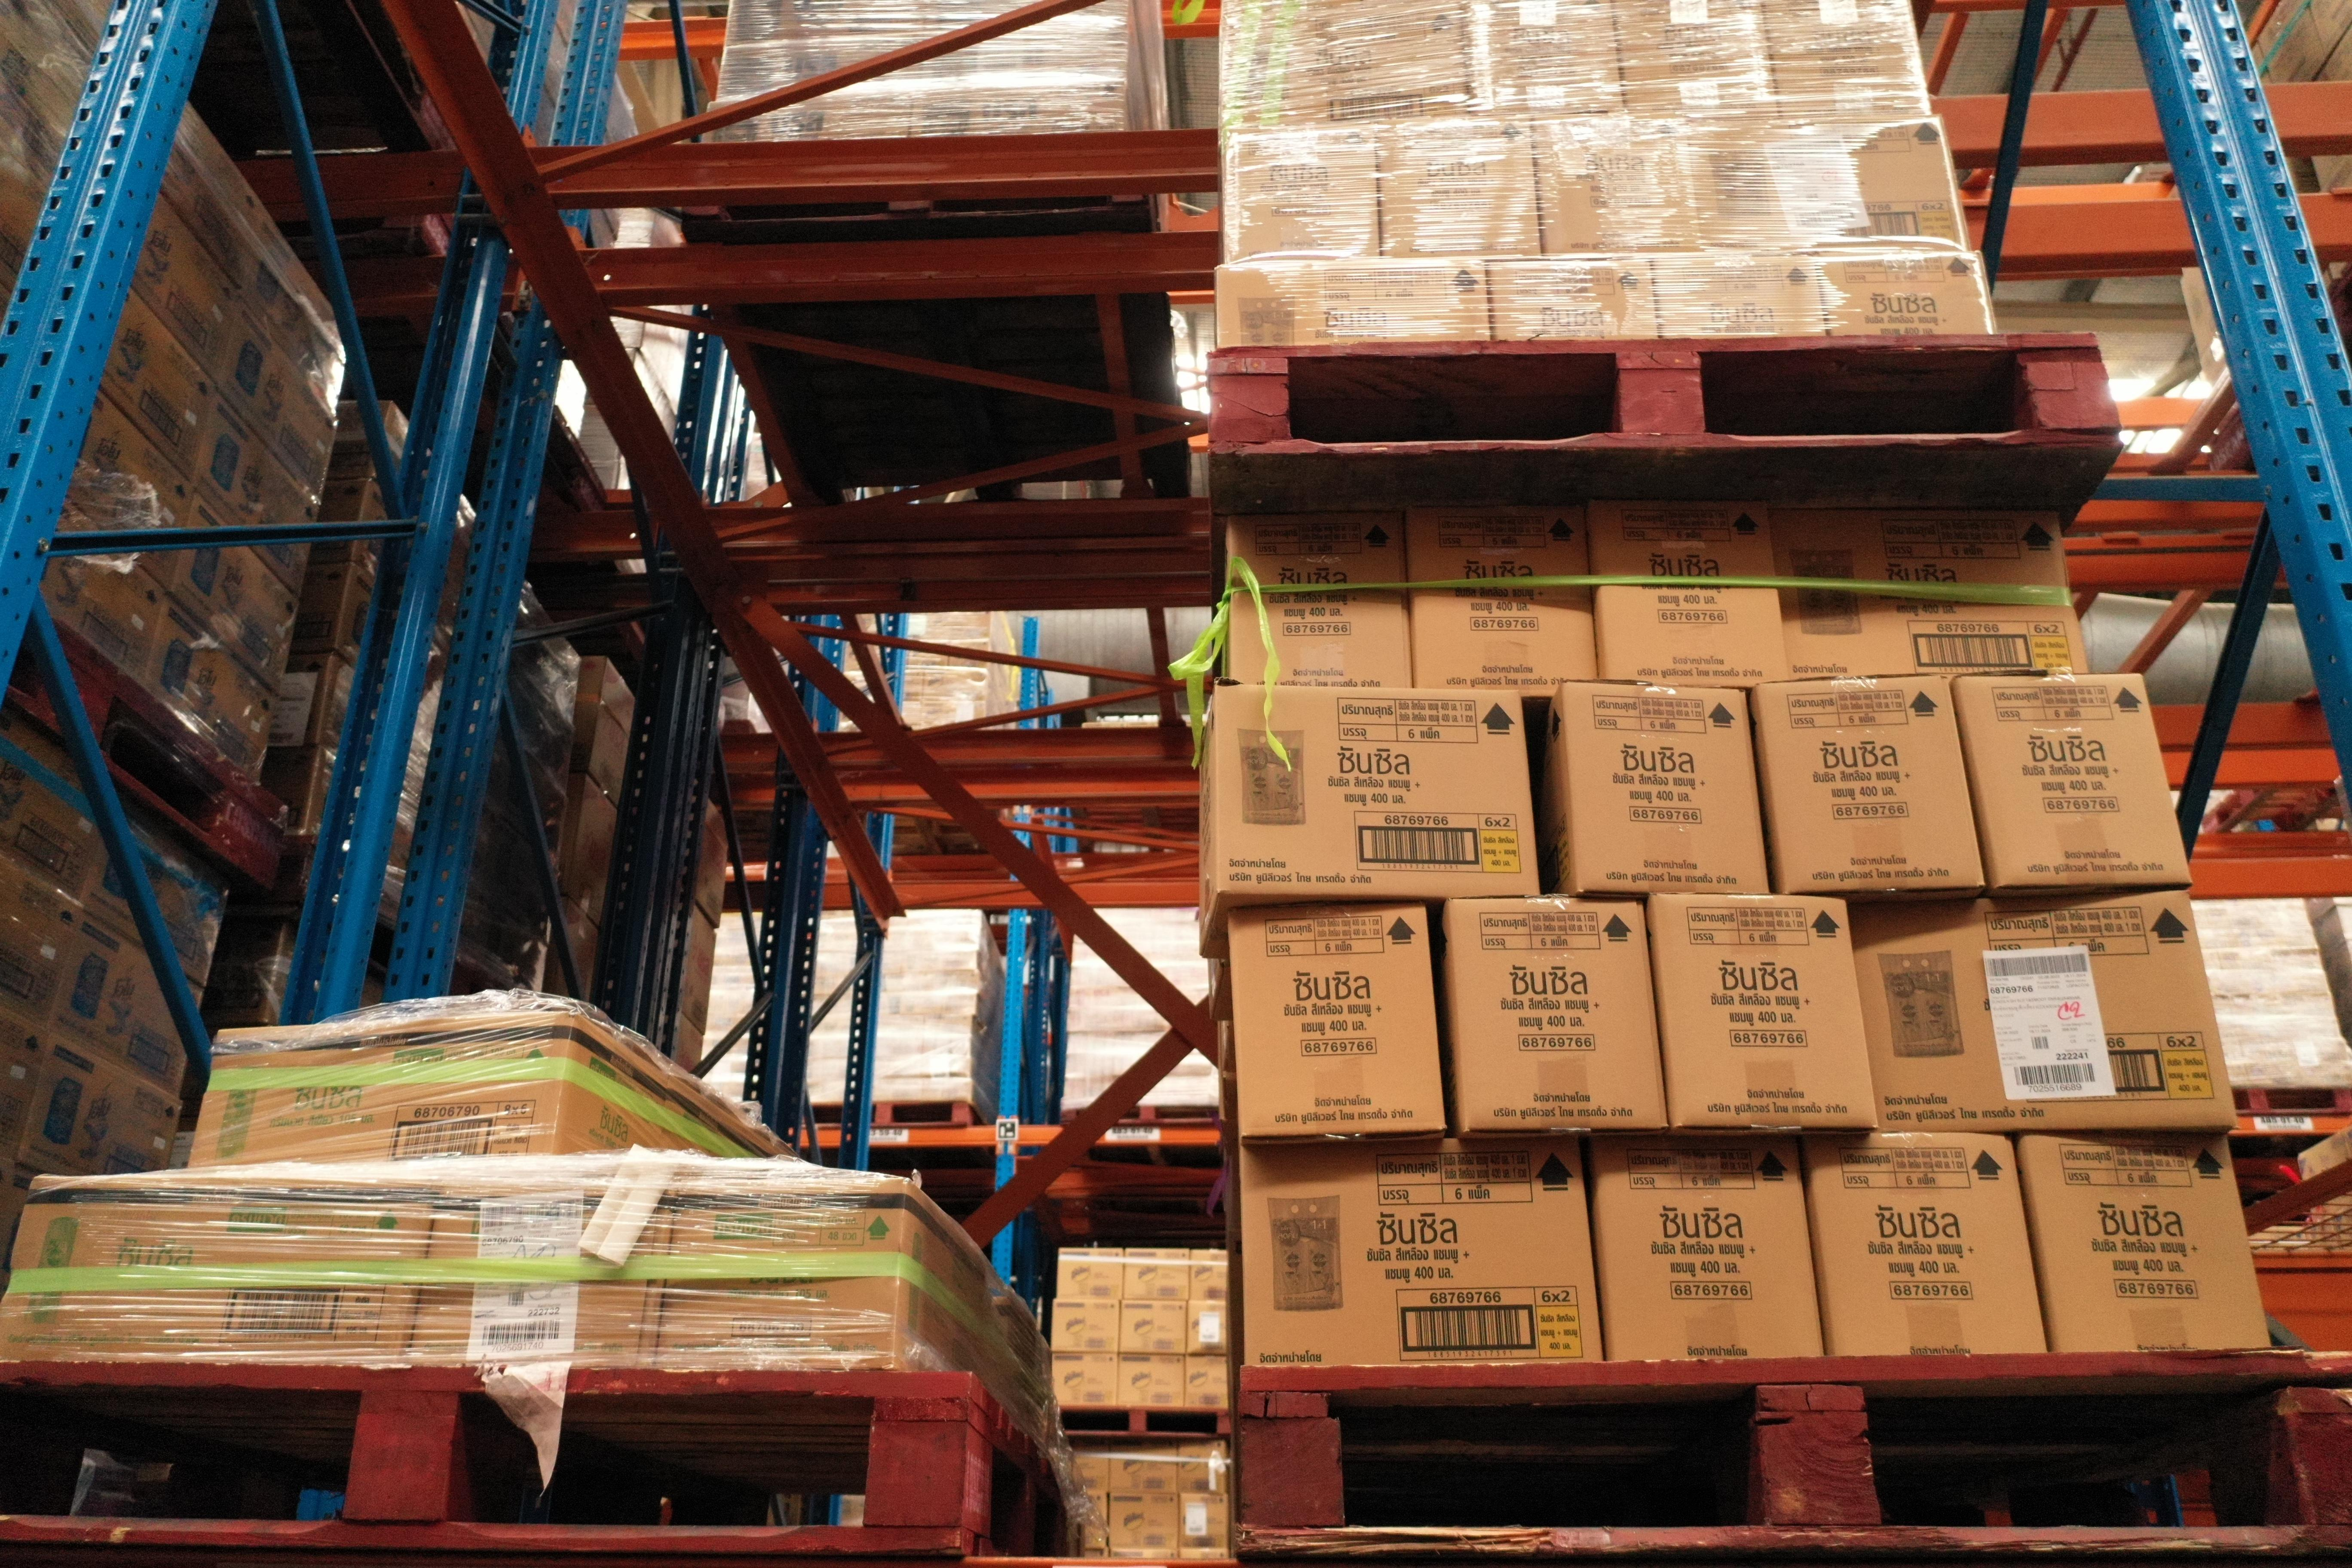-: (1850, 885, 2233, 1129), (1241, 1129, 1608, 1368), (0, 1174, 439, 1365), (1213, 684, 1543, 903), (187, 1006, 572, 1185), (1766, 506, 2089, 684), (1584, 1127, 1827, 1363), (2018, 1129, 2271, 1354), (1799, 1132, 2051, 1356), (1648, 892, 1881, 1130), (1225, 898, 1449, 1137), (406, 1174, 672, 1372), (1445, 898, 1671, 1130), (653, 1171, 908, 1375), (1753, 677, 1986, 894), (1956, 672, 2193, 885), (1557, 679, 1771, 898), (1582, 499, 1790, 686), (1685, 115, 1967, 252), (1403, 502, 1601, 691), (1214, 0, 1477, 131), (1225, 511, 1414, 688), (1214, 255, 1491, 350), (1529, 119, 1703, 254), (1374, 124, 1543, 257), (1221, 131, 1379, 257), (1766, 2, 1932, 121), (1612, 2, 1780, 119), (1468, 0, 1624, 124), (1816, 247, 1997, 336), (1489, 255, 1659, 348), (1650, 252, 1829, 339)
